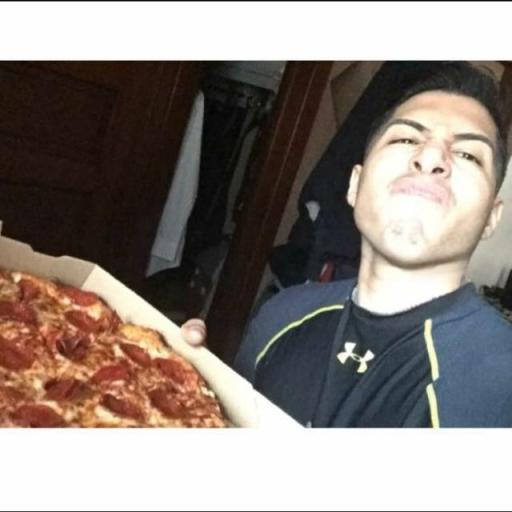Under Armour: (334, 336, 376, 376)
